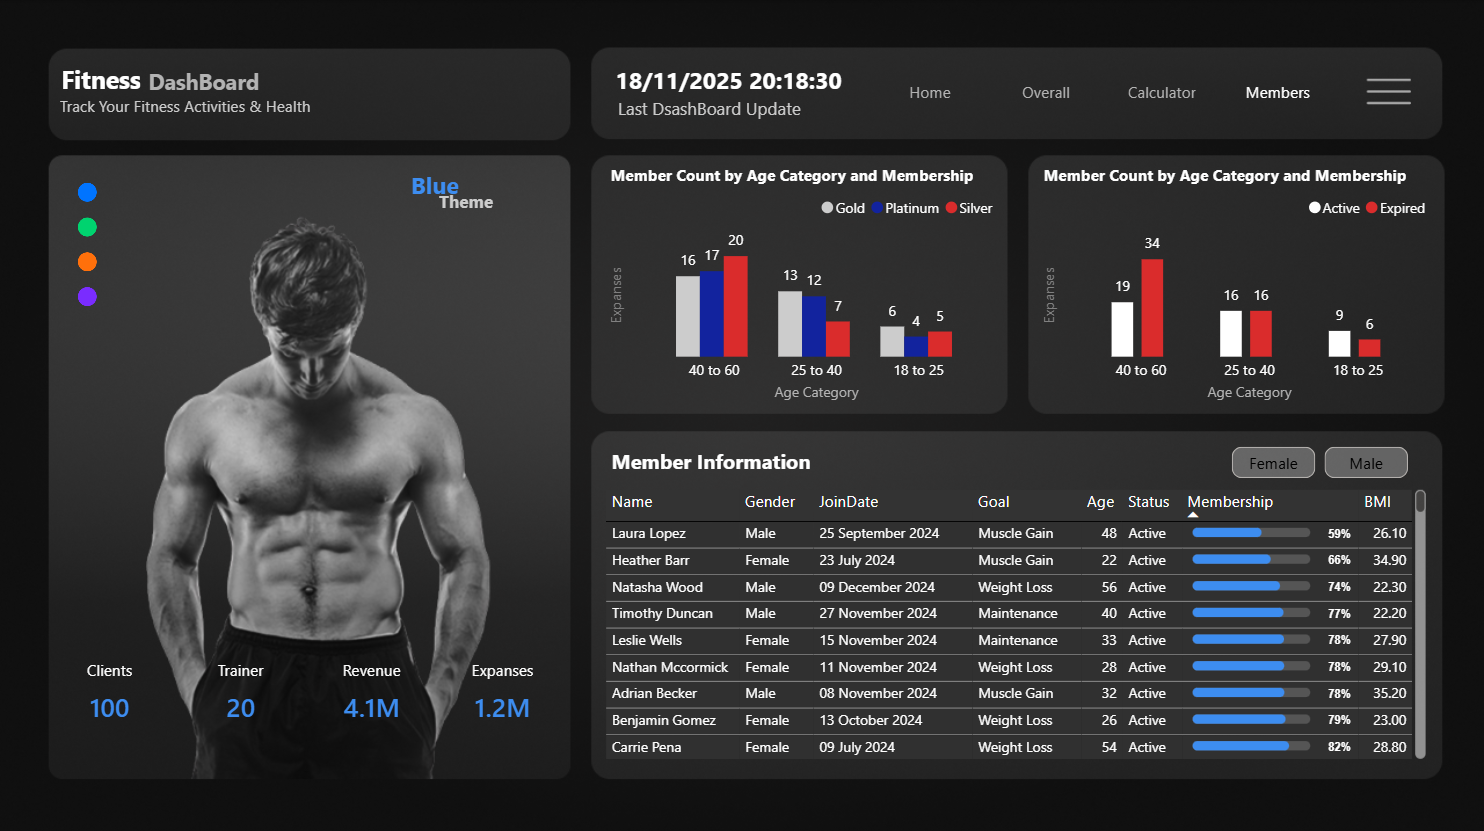

The dashboard page shown, as its layout file describes it:
{"tool":"powerbi","page":{"name":"Members","canvas":[1280,720],"ordinal":3},"visuals":[{"type":"tableEx","fields":{"Values":["Users.UserName","Users.Gender","Users.JoinDate","Users.Goal","Sum(Users.Age)","Users.Status","_Measures.SVG_BarChart1","Sum(Users.BMI)"]},"box":[516.7,417.6,717.8,242],"z":4000},{"type":"shape","box":[50.1,51.1,74.2,33.1],"z":5000},{"type":"shape","box":[127.3,53.1,96.2,33.1],"z":6000},{"type":"shape","box":[51.9,67.3,245.6,46.4],"z":7000},{"type":"image","box":[1154.7,51.1,87.2,58.1],"z":8000},{"type":"shape","box":[488,52,280.7,33.1],"z":9000},{"type":"shape","box":[533.1,69,245.6,47.1],"z":10000},{"type":"pageNavigator","box":[756.9,60,393,36.4],"z":11000},{"type":"shape","box":[522.2,380.3,182.9,33.7],"z":12000},{"type":"advancedSlicerVisual","fields":{"Values":["Users.Gender"]},"box":[1057.1,380.3,162.8,37.3],"z":13000},{"type":"clusteredColumnChart","title":"Member Count by Age Category and Membership","fields":{"Y":["_Measures.Users_Count"],"Category":["Users.Age Category"],"Series":["Users.Membership"]},"box":[522.2,141.9,343.9,208.3],"z":14000},{"type":"clusteredColumnChart","title":"Member Count by Age Category and Membership","fields":{"Y":["_Measures.Users_Count"],"Category":["Users.Age Category"],"Series":["Users.Status"]},"box":[895.2,141.9,343.9,208.3],"z":15000},{"type":"advancedSlicerVisual","fields":{"Values":["ColorCodes.Color"],"Label":["Min(ColorCodes.Icon)"]},"box":[57.3,150.1,37.3,125.5],"z":15001},{"type":"shape","box":[234.7,141.9,281.1,33.7],"z":15002},{"type":"shape","box":[378.5,149.2,54.6,47.3],"z":15003},{"type":"cardVisual","fields":{"Data":["_Measures.Users_Count"]},"box":[39.9,556.4,110,80],"z":15004},{"type":"cardVisual","fields":{"Data":["Count(Users.Trainer Name)"]},"box":[152.7,556.4,110,80],"z":15005},{"type":"cardVisual","fields":{"Data":["_Measures.Revenue"]},"box":[265.5,556.4,110,80],"z":15006},{"type":"cardVisual","fields":{"Data":["_Measures.Expanses"]},"box":[378.4,556.4,110,80],"z":15007}]}

Visuals, with their boxes in screenshot pixels (x1, y1, x2, y2), scaled from the page's 1280x720 canvas onto the 1484x831 screenshot:
tableEx - Users.UserName x Users.Gender: pyautogui.locateOnScreen(599, 482, 1431, 761)
shape: pyautogui.locateOnScreen(58, 59, 144, 97)
shape: pyautogui.locateOnScreen(148, 61, 259, 99)
shape: pyautogui.locateOnScreen(60, 78, 345, 131)
image: pyautogui.locateOnScreen(1339, 59, 1440, 126)
shape: pyautogui.locateOnScreen(566, 60, 891, 98)
shape: pyautogui.locateOnScreen(618, 80, 903, 134)
pageNavigator: pyautogui.locateOnScreen(878, 69, 1333, 111)
shape: pyautogui.locateOnScreen(605, 439, 817, 478)
advancedSlicerVisual - Users.Gender: pyautogui.locateOnScreen(1226, 439, 1414, 482)
"Member Count by Age Category and Membership" clusteredColumnChart: pyautogui.locateOnScreen(605, 164, 1004, 404)
"Member Count by Age Category and Membership" clusteredColumnChart: pyautogui.locateOnScreen(1038, 164, 1437, 404)
advancedSlicerVisual - ColorCodes.Color x Min(ColorCodes.Icon): pyautogui.locateOnScreen(66, 173, 110, 318)
shape: pyautogui.locateOnScreen(272, 164, 598, 203)
shape: pyautogui.locateOnScreen(439, 172, 502, 227)
cardVisual - _Measures.Users_Count: pyautogui.locateOnScreen(46, 642, 174, 735)
cardVisual - Count(Users.Trainer Name): pyautogui.locateOnScreen(177, 642, 305, 735)
cardVisual - _Measures.Revenue: pyautogui.locateOnScreen(308, 642, 435, 735)
cardVisual - _Measures.Expanses: pyautogui.locateOnScreen(439, 642, 566, 735)
